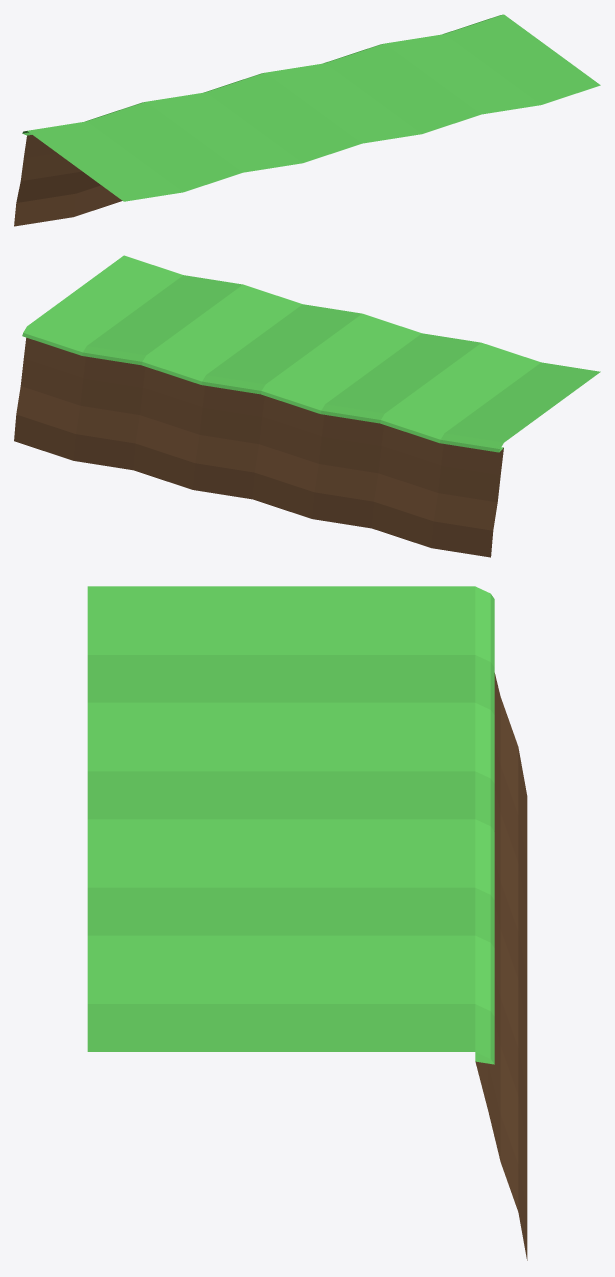
Rendered from model-scenario-static-cutscene-prologue-mountain.fbx.
3 views of the same model, one above another, from view 1: azimuth 30°, elevation 25°; view 2: azimuth 150°, elevation 25°; view 3: azimuth 270°, elevation 25° (orthographic). The views are drawn at different scales.
Visible parts, largest first — view 1: cutscene_prologue_mountain; view 2: cutscene_prologue_mountain; view 3: cutscene_prologue_mountain.
Part boxes in pixels (x1,y1,x2,y2): cutscene_prologue_mountain: [14, 14, 600, 226]; cutscene_prologue_mountain: [14, 255, 600, 557]; cutscene_prologue_mountain: [87, 586, 527, 1260].
Size of the model in its own units: 23.96 by 60 by 13.27.
Materials: 1 (1 with a texture image).
